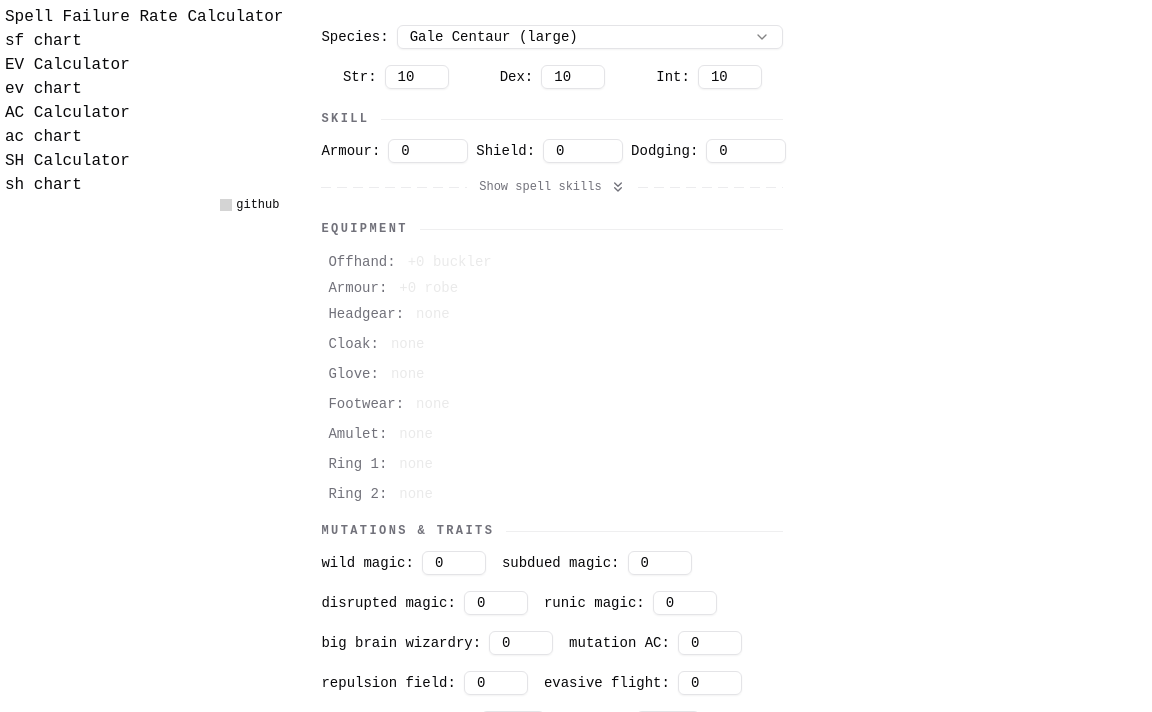
Test: Calculator desktop layout › opens shield modal controls from the offhand summary row
Click the button with test id "equipment-row-offhand". click: [358, 262]
box: top-left (322, 249), bottom-right (784, 275)
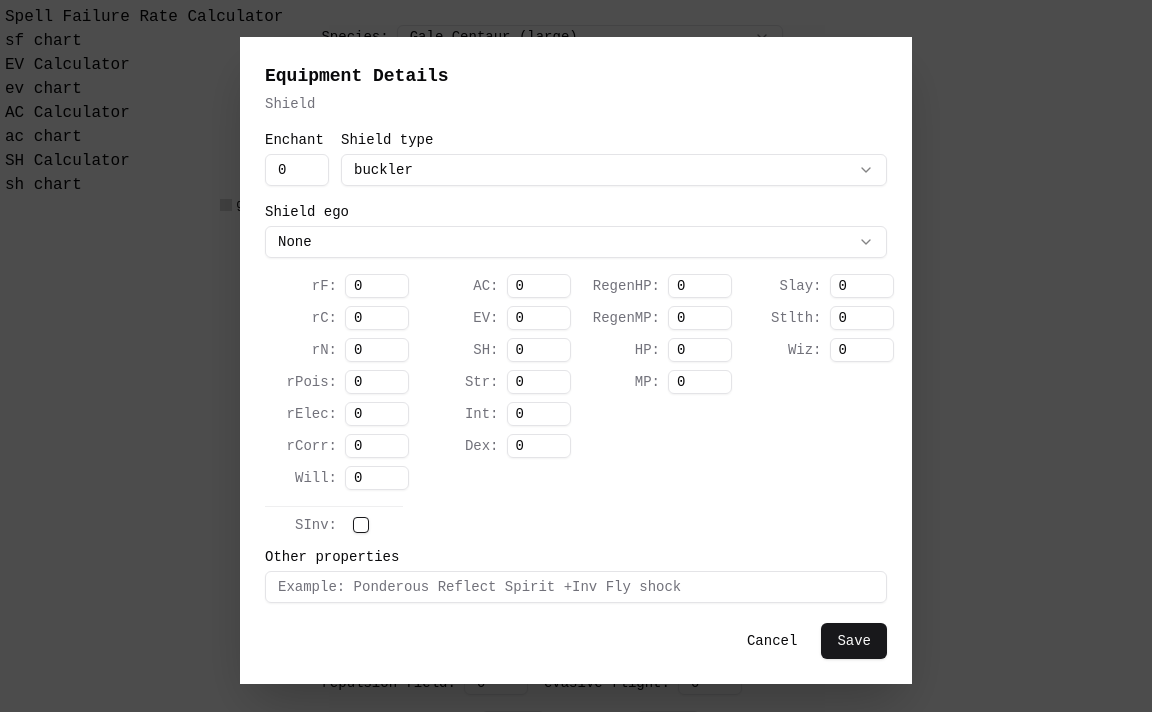
Expected: the text "Equipment Details" is shown, top-left (265, 66), bottom-right (449, 86)
Expected: the dropdown named "Shield" is shown, top-left (341, 154), bottom-right (887, 186)
Expected: the number field named "Shield enchant" is shown, top-left (265, 154), bottom-right (329, 186)
